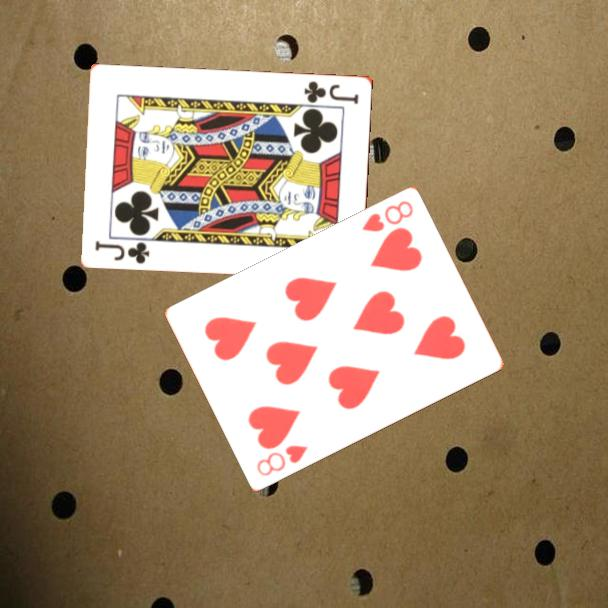c11: (301, 77, 362, 106), (92, 237, 153, 266)
h08: (253, 442, 311, 479), (358, 198, 416, 235)
